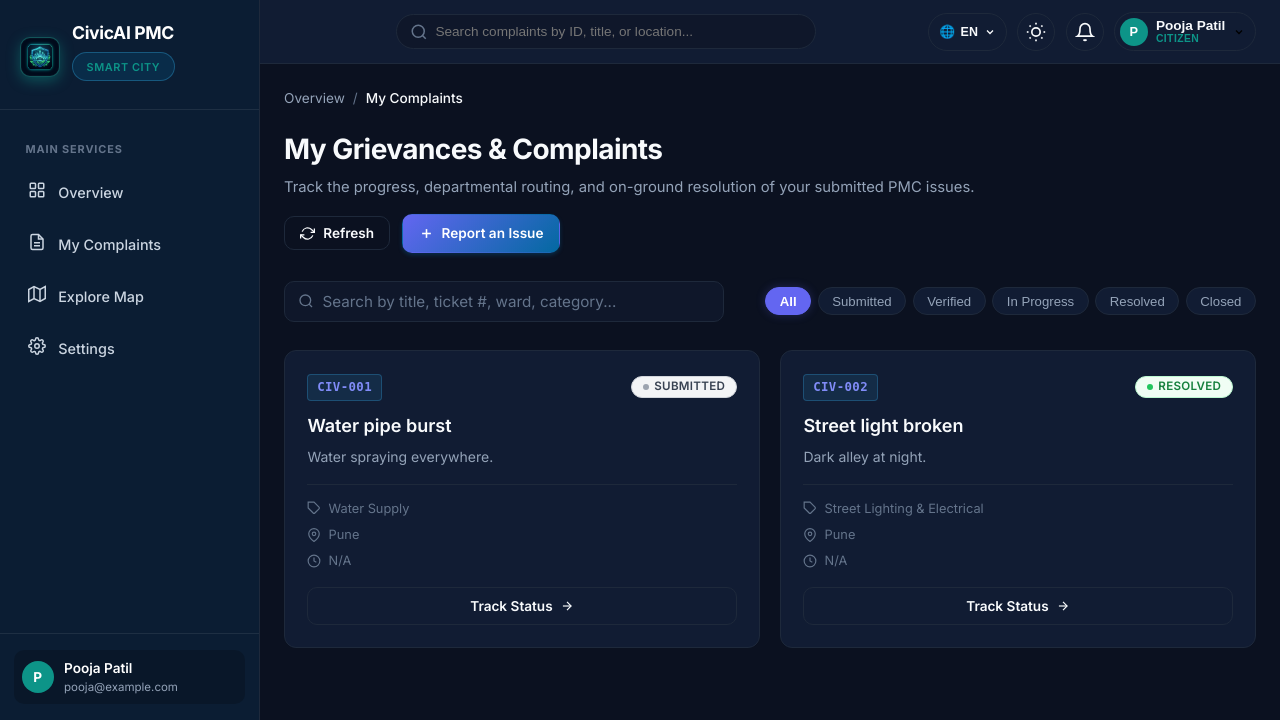
Test: ComplaintListPage Component › filters complaints correctly using the search bar
The width and height of the screenshot is (1280, 720).
Expected: the link "Water pipe burst" is shown, [307, 415, 452, 436]
Expected: the link "Street light broken" is shown, [803, 415, 963, 436]
Type "Water" into the search field with placeholder "Search by title, ticket #, ward, category..." at (504,301), box [284, 281, 724, 322]
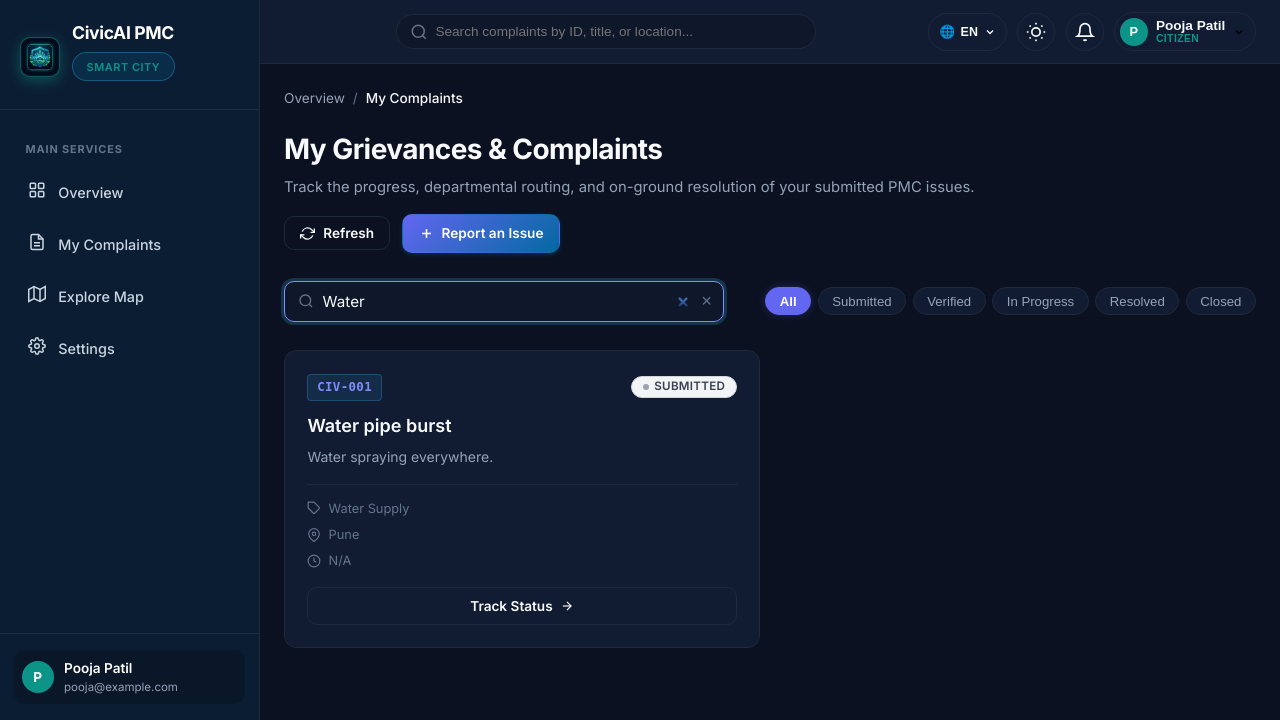
Expected: the link "Water pipe burst" is shown, [307, 415, 452, 436]
Expected: the link "Street light broken" is gone
